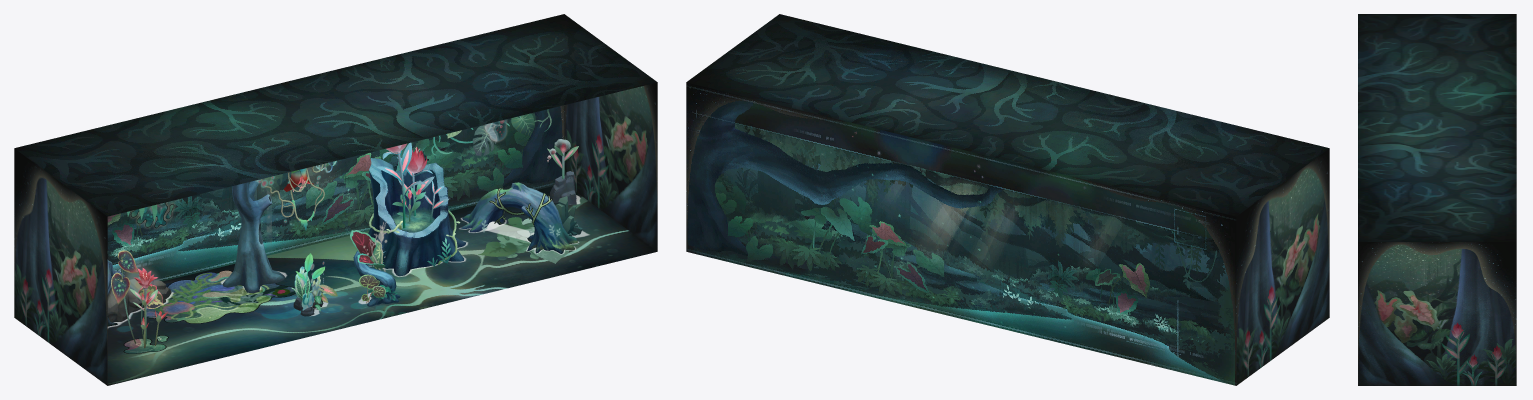
The model's file is darkForest.glb.
3 renders of one model, left to right at view 1: azimuth 30°, elevation 25°; view 2: azimuth 150°, elevation 25°; view 3: azimuth 270°, elevation 25°, orthographic. The views are drawn at different scales.
Visible parts, largest first — view 1: ROOM_room, ROOM_floor, furni_darkForest_trunk_03.002, furni_darkForest_carpet_01, furni_darkForest_seat_02.001, furni_darkForest_trunk_02.001, furni_darkForest_carpet_02, furni_darkForest_seat_01, furni_darkForest_tropicalPlant_03, ROOM_LDoor, ROOM_RDoor, furni_darkForest_trunk_01 (+8 smaller); view 2: ROOM_room, ROOM_LDoor; view 3: ROOM_room, ROOM_RDoor.
Part boxes in pixels (left/top/right/bottom): ROOM_room: left=14, top=14, right=657, bottom=385; ROOM_floor: left=107, top=186, right=657, bottom=385; furni_darkForest_trunk_03.002: left=366, top=142, right=466, bottom=276; furni_darkForest_carpet_01: left=144, top=270, right=295, bottom=323; furni_darkForest_seat_02.001: left=460, top=182, right=582, bottom=253; furni_darkForest_trunk_02.001: left=222, top=179, right=285, bottom=293; furni_darkForest_carpet_02: left=478, top=217, right=579, bottom=263; furni_darkForest_seat_01: left=350, top=230, right=400, bottom=306; furni_darkForest_tropicalPlant_03: left=111, top=250, right=168, bottom=353; ROOM_LDoor: left=74, top=285, right=93, bottom=375; ROOM_RDoor: left=625, top=151, right=643, bottom=241; furni_darkForest_trunk_01: left=107, top=259, right=171, bottom=326; ROOM_room: left=686, top=14, right=1329, bottom=385; ROOM_LDoor: left=1297, top=251, right=1315, bottom=341; ROOM_room: left=1358, top=14, right=1516, bottom=385; ROOM_RDoor: left=1381, top=320, right=1413, bottom=385.
Bounding box in the file's own units: 7.48 × 2.2 × 2.23.
6 materials, 6 textured.
